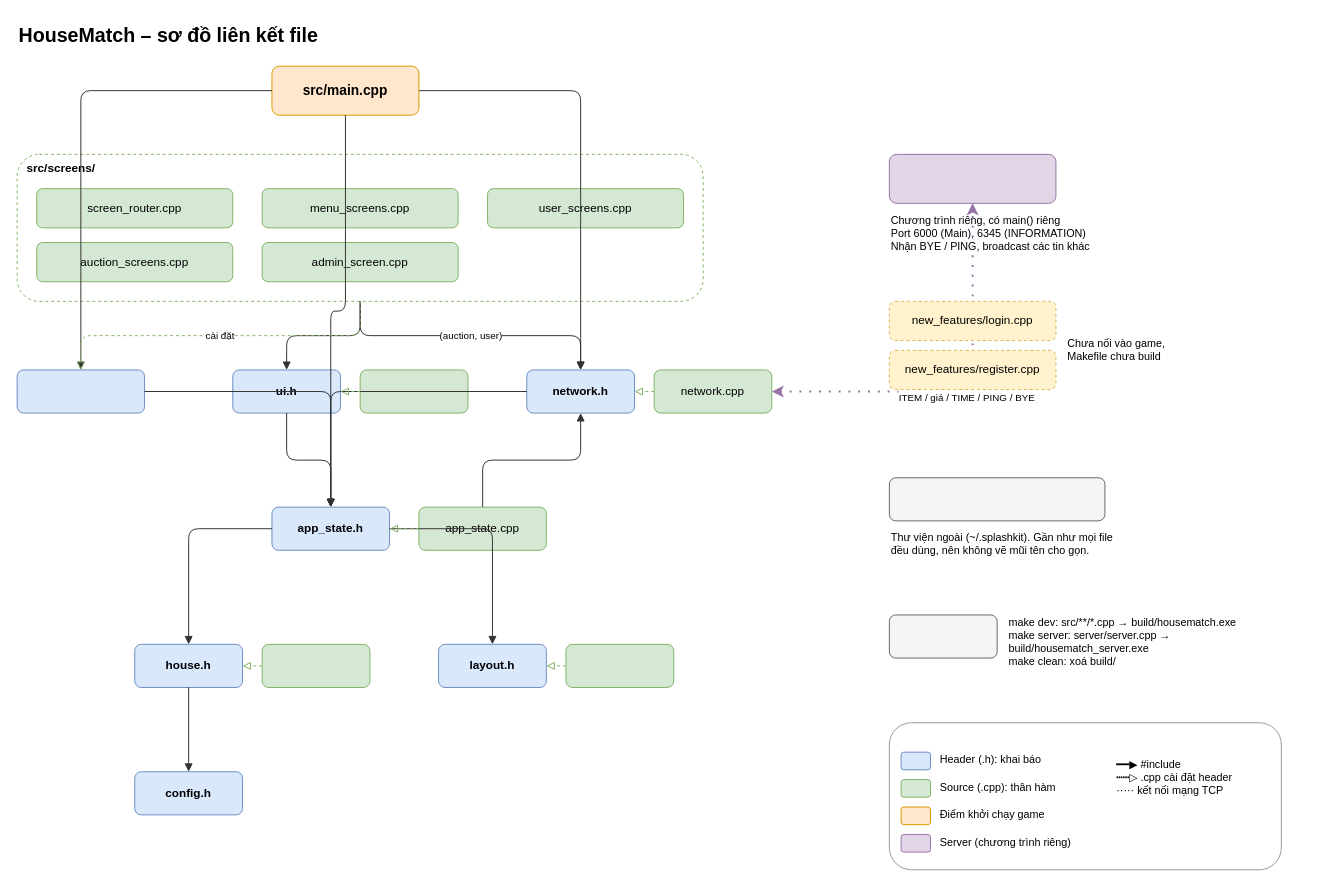
Image size: 1318x887. Some labels were removed from this diagram. The box of each missing label's shape, as (x1, y1, x2, y2) in pixels:
Chú thích: (888, 722, 1281, 870)
house.cpp: (261, 643, 370, 687)
layout.cpp: (565, 643, 674, 687)
Makefile: (888, 614, 997, 658)
screens.h: (16, 369, 145, 413)
server/server.cpp: (888, 153, 1056, 203)
splashkit.h + splashkit-arrays.h: (888, 477, 1105, 521)
ui.cpp: (359, 369, 468, 413)
